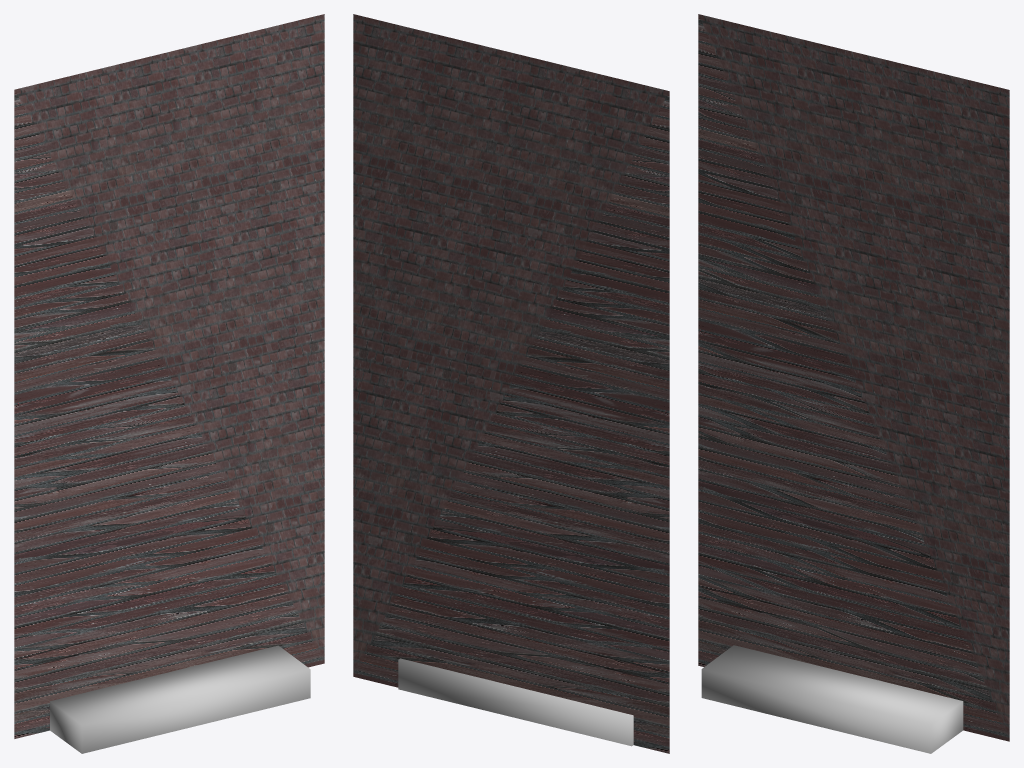
The model's file is Wall_D_Brick_Door_D_2x_COL.FBX.
3 views of the same model, side by side, from view 1: azimuth 30°, elevation 25°; view 2: azimuth 150°, elevation 25°; view 3: azimuth 330°, elevation 25° (orthographic). The views are drawn at different scales.
Parts seen in each view (by area): view 1: Wall_D_Brick_Door_D_2x_COL; view 2: Wall_D_Brick_Door_D_2x_COL; view 3: Wall_D_Brick_Door_D_2x_COL.
Part boxes in pixels (<box>): Wall_D_Brick_Door_D_2x_COL: <box>14,14,324,753</box>; Wall_D_Brick_Door_D_2x_COL: <box>353,14,669,753</box>; Wall_D_Brick_Door_D_2x_COL: <box>698,14,1009,753</box>.
Size of the model in its own units: 200 by 400 by 37.84.
